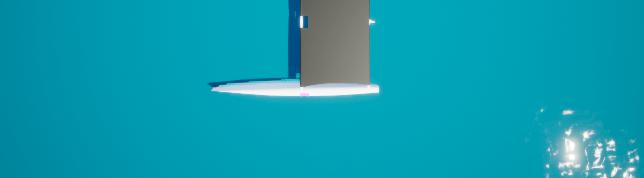boat: (209, 0, 381, 101)
drone: (301, 0, 368, 88)
land_base: (524, 99, 644, 178)
